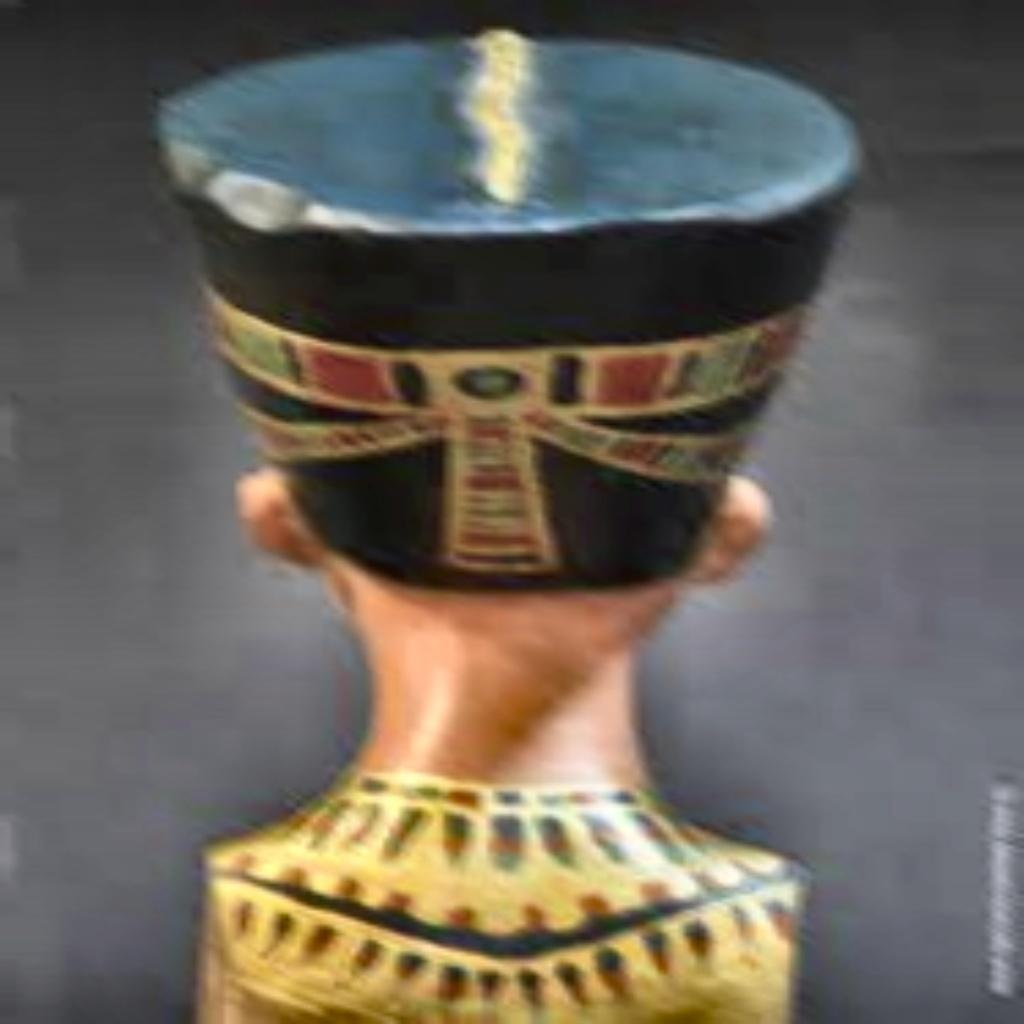Nefertiti: (154, 26, 866, 1020)
